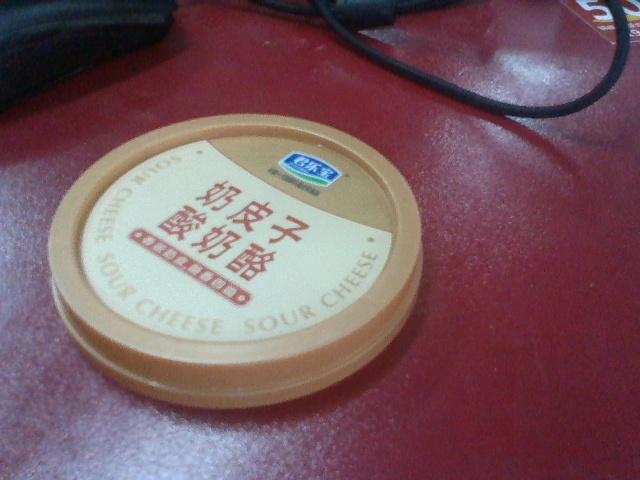lid: (23, 110, 433, 418)
